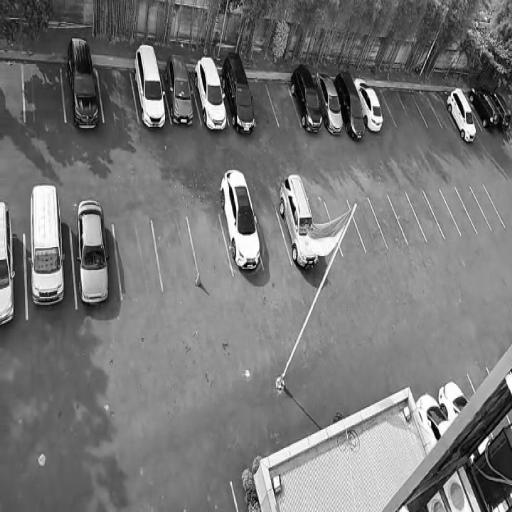Car: (214, 159, 265, 278), (24, 180, 68, 310), (273, 169, 324, 279), (72, 189, 110, 310), (62, 22, 102, 136), (188, 50, 232, 136), (217, 48, 259, 138), (286, 57, 328, 137), (131, 43, 169, 130), (159, 47, 198, 128), (331, 68, 370, 141), (414, 386, 454, 454), (0, 182, 18, 332), (443, 85, 481, 149), (312, 68, 347, 137), (464, 78, 503, 138), (350, 73, 387, 133), (432, 376, 470, 424)
Space Available: (114, 217, 164, 298), (186, 210, 234, 282), (152, 215, 199, 287), (23, 58, 66, 125), (96, 63, 139, 121), (325, 200, 365, 256), (348, 198, 388, 254), (255, 208, 292, 268), (369, 196, 407, 248), (406, 191, 445, 241), (388, 194, 426, 243), (439, 187, 477, 236), (310, 202, 342, 259), (424, 190, 461, 239), (0, 56, 24, 129), (265, 79, 301, 127), (455, 187, 490, 232), (247, 78, 279, 127), (470, 184, 505, 228), (395, 87, 427, 126), (381, 86, 411, 127), (411, 91, 442, 129), (424, 91, 455, 128), (372, 86, 397, 129), (455, 372, 476, 402), (467, 366, 490, 393)
